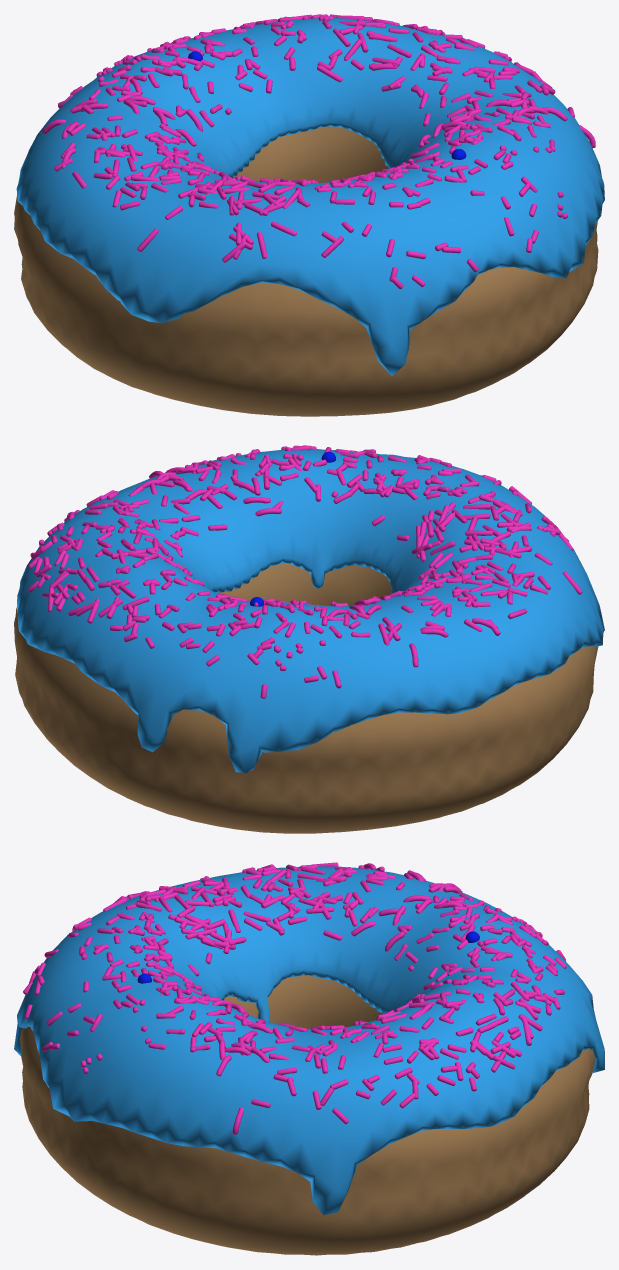
File: jozek_decimated.fbx
The picture shows the model from 3 angles, top to bottom: view 1: azimuth 30°, elevation 25°; view 2: azimuth 150°, elevation 25°; view 3: azimuth 270°, elevation 25°; orthographic projection. The views are drawn at different scales.
Visible parts, largest first — view 1: Icing, Donut; view 2: Icing, Donut; view 3: Icing, Donut.
Boxes of the visible parts, x1,y1,x2,y2 form: Icing: (16,18,604,375); Donut: (14,126,598,416); Icing: (17,449,604,773); Donut: (14,563,598,833); Icing: (14,866,604,1215); Donut: (20,975,595,1255).
Bounding box in the file's own units: 15.81 × 6.57 × 15.7.
